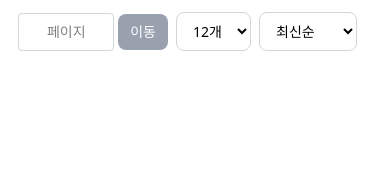
BoardControls › 이동 버튼 활성화/비활성화 › 유효한 페이지 입력 시 활성화된다
Step 1. Type "5" into the field with placeholder "페이지" → (66, 32), box [18,12,114,50]
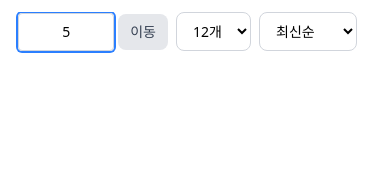
Expected: the button "이동" is enabled, [118,14,168,50]
